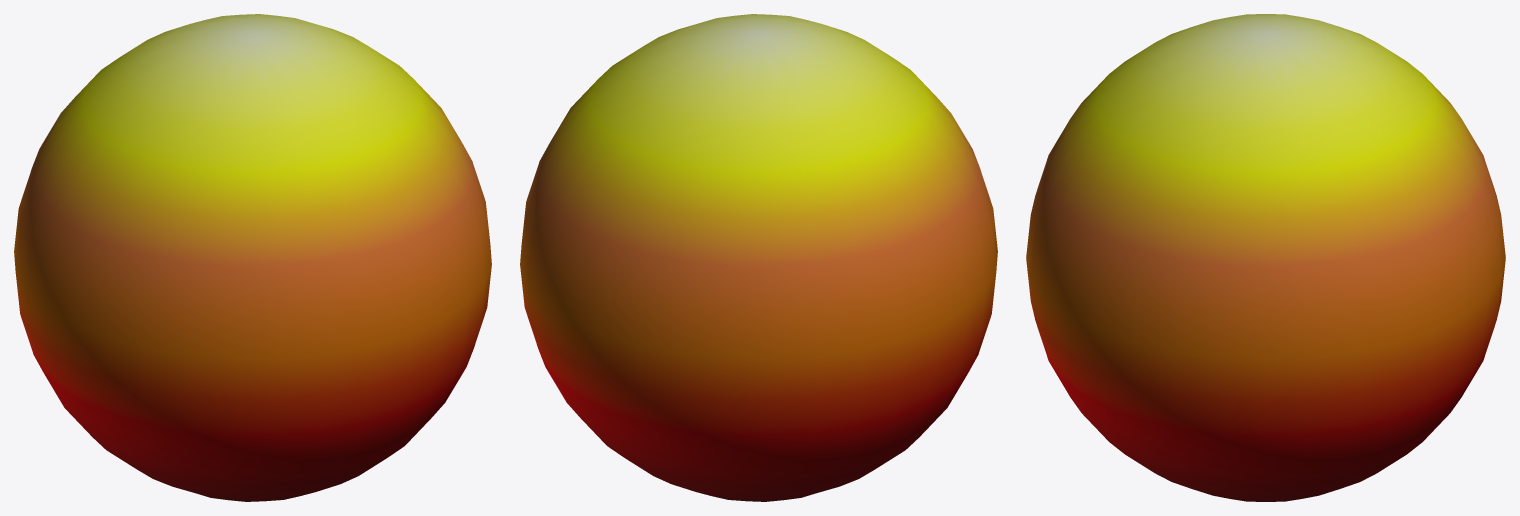
Rendered from engine.dae.
3 views of the same model, side by side, from view 1: azimuth 30°, elevation 25°; view 2: azimuth 150°, elevation 25°; view 3: azimuth 270°, elevation 25° (orthographic).
Parts seen in each view (by area): view 1: sphere1-0; view 2: sphere1-0; view 3: sphere1-0.
Boxes of the visible parts, <box> form: sphere1-0: <box>14,14,491,501</box>; sphere1-0: <box>520,14,997,501</box>; sphere1-0: <box>1026,14,1505,501</box>.
Bounding box in the file's own units: 3.08 × 3.17 × 3.08.
